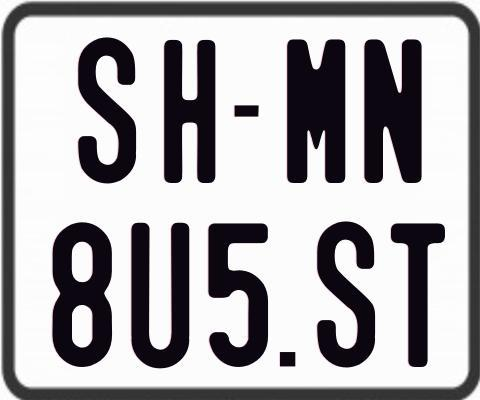5: (207, 223, 272, 368)
8: (49, 221, 115, 366)
H: (161, 38, 216, 187)
M: (287, 37, 349, 184)
N: (362, 39, 420, 186)
S: (76, 37, 140, 189), (314, 221, 374, 372)
T: (389, 221, 444, 371)
U: (129, 223, 190, 371)
